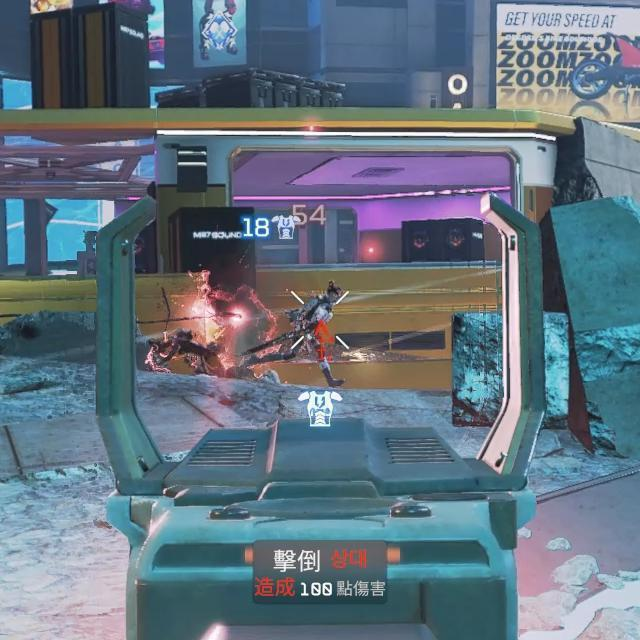avatar: (282, 277, 349, 390)
